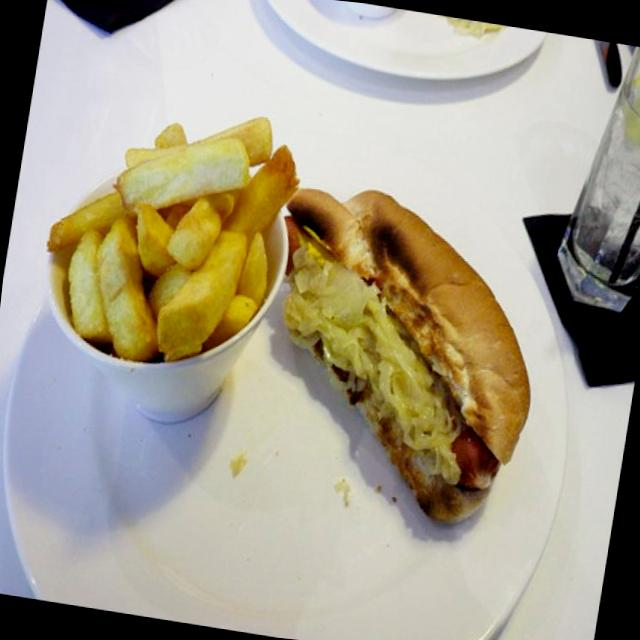French Fries: (34, 86, 308, 376)
Hot Dog: (247, 150, 550, 547)
